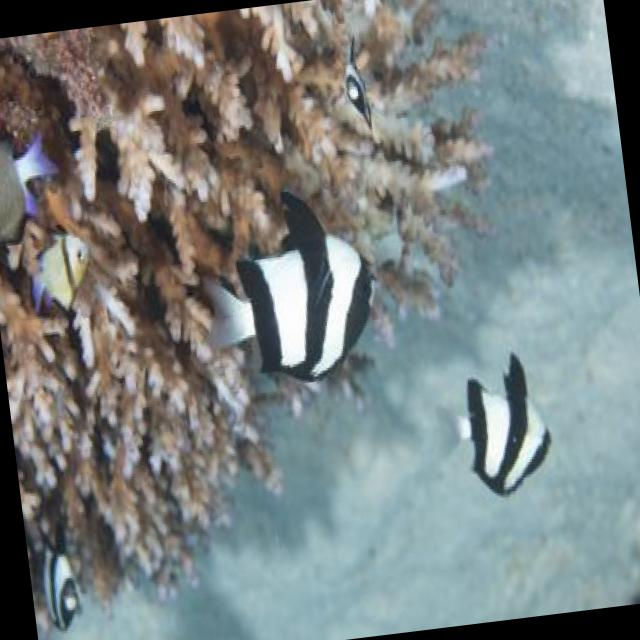ThreeStripedDamselfish: (201, 191, 371, 377), (433, 351, 550, 495)
